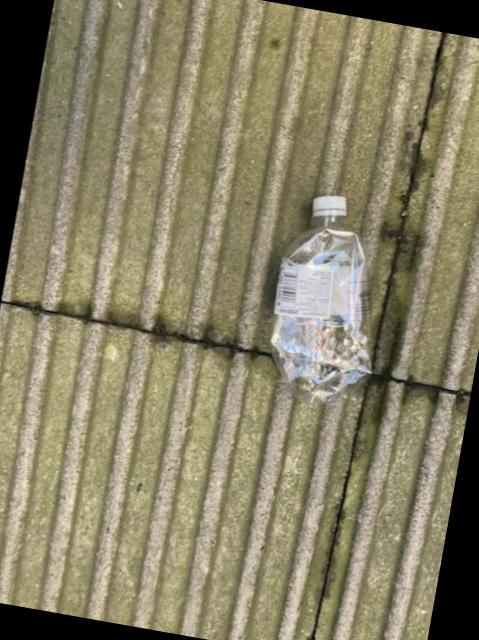plastic: (268, 196, 368, 402)
